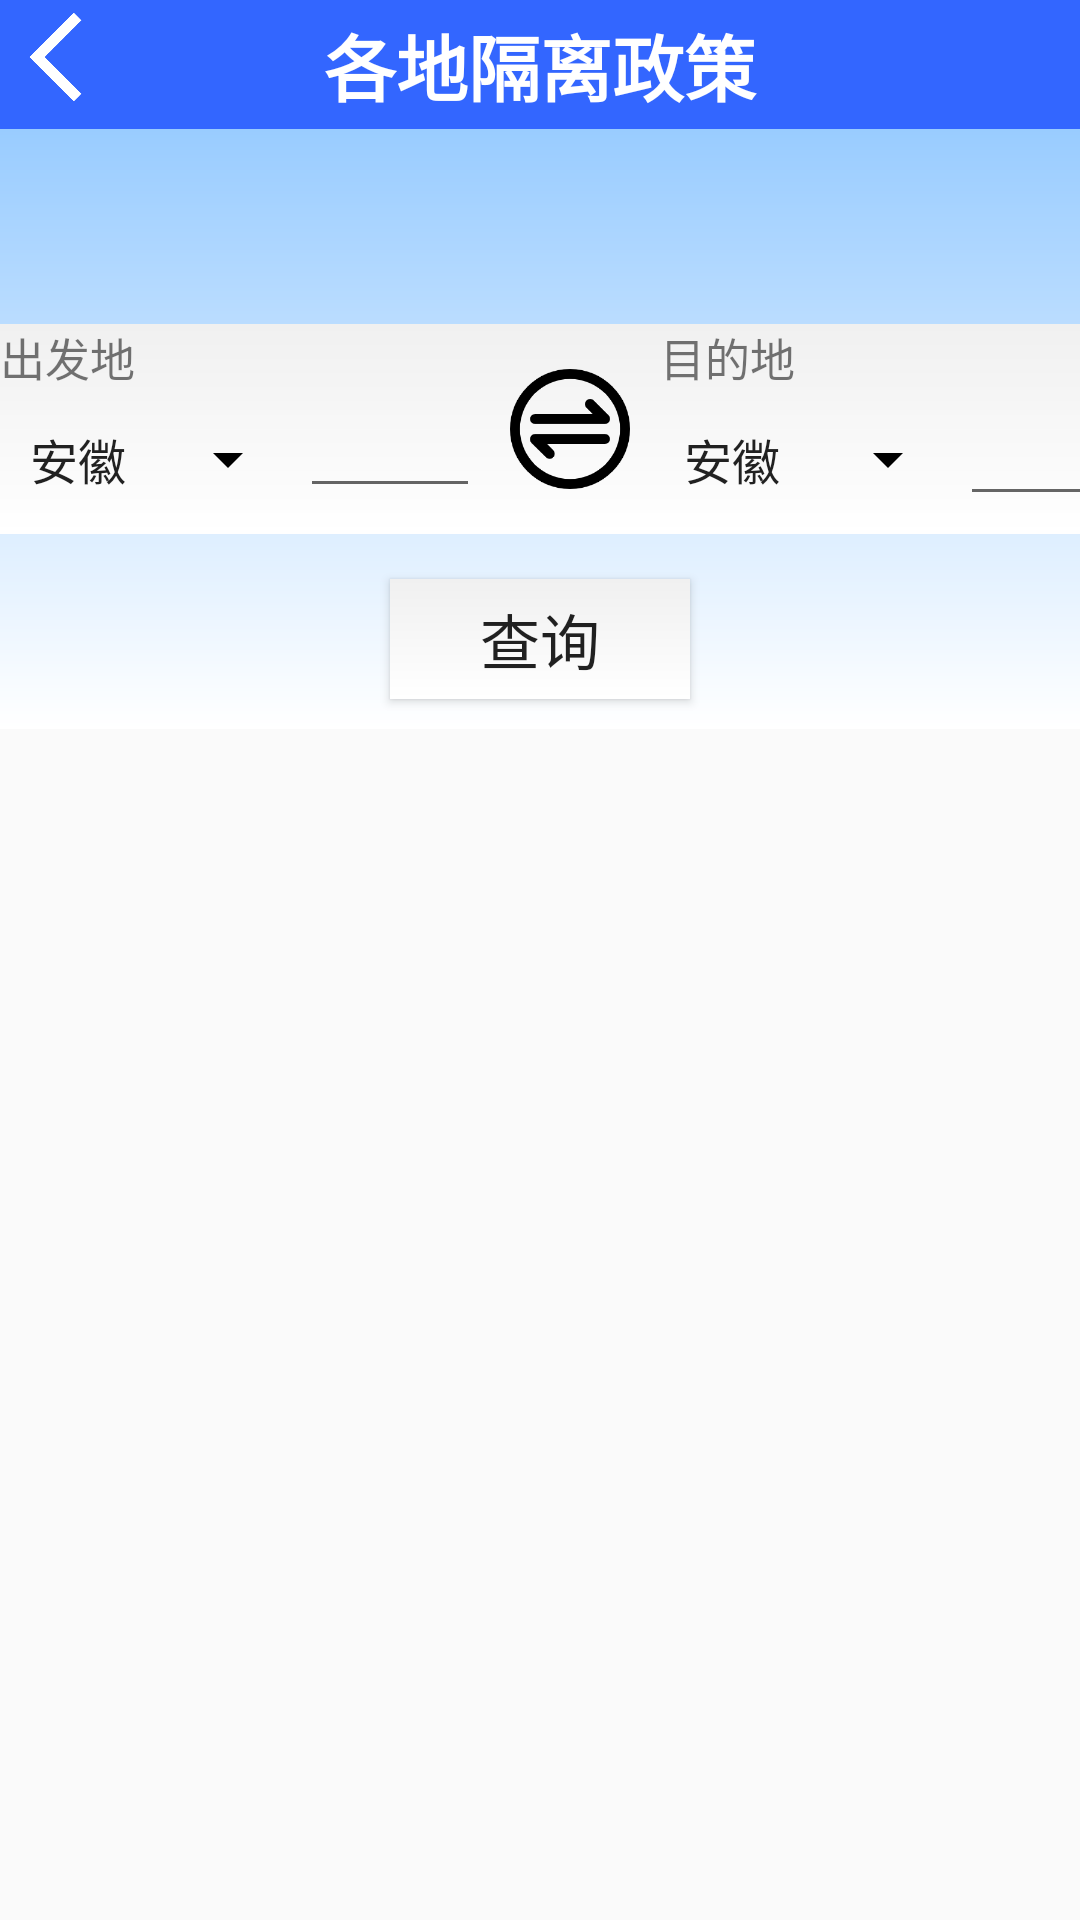

Screen size 1080w x 1920h. Icon name, then its center in pixels as [x,y]:
back: [56,57]
transfer: [570,429]
